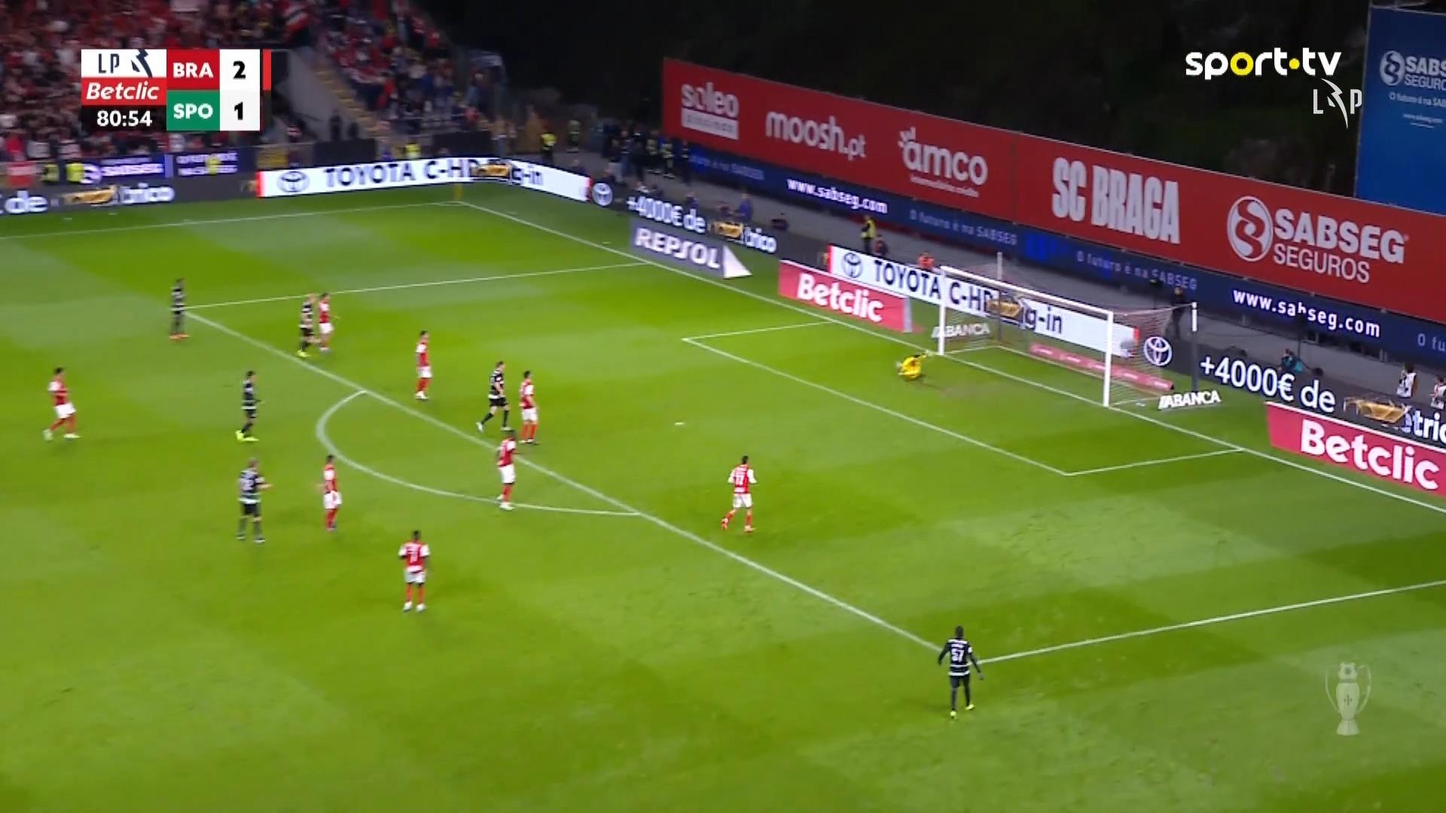goalkeeper: (896, 349, 934, 380)
player: (936, 623, 984, 719), (235, 456, 272, 543), (720, 454, 758, 532), (41, 365, 80, 440), (474, 359, 512, 433), (397, 529, 430, 612), (235, 369, 262, 442), (494, 428, 517, 510), (320, 452, 341, 531), (517, 369, 539, 444), (295, 292, 317, 357), (413, 329, 432, 400), (168, 276, 189, 338), (316, 291, 337, 352)
